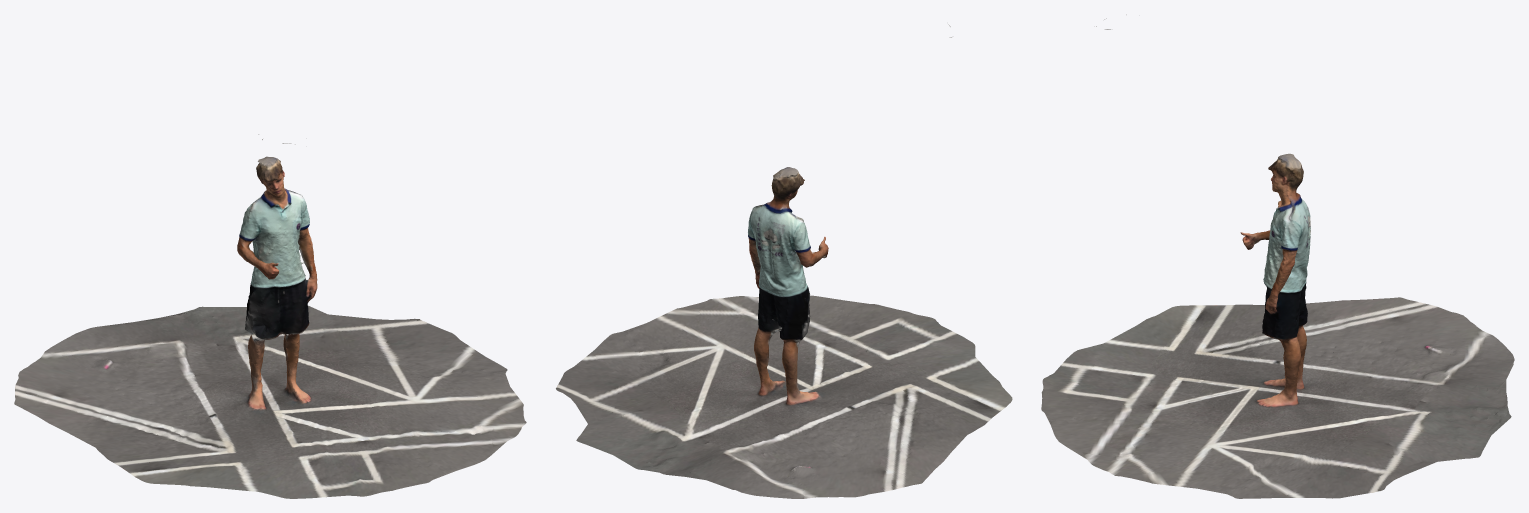
The model's file is scene-mt2onon3.glb.
3 renders of one model, left to right at view 1: azimuth 30°, elevation 25°; view 2: azimuth 150°, elevation 25°; view 3: azimuth 270°, elevation 25°, orthographic. The views are drawn at different scales.
Parts seen in each view (by area): view 1: mesh; view 2: mesh; view 3: mesh.
Part boxes in pixels (bbox=[...]): mesh: bbox=[14, 134, 526, 498]; mesh: bbox=[556, 24, 1012, 498]; mesh: bbox=[1041, 14, 1514, 498].
Size of the model in its own units: 3.47 by 2.91 by 3.52.
Materials: 1 (1 with a texture image).
